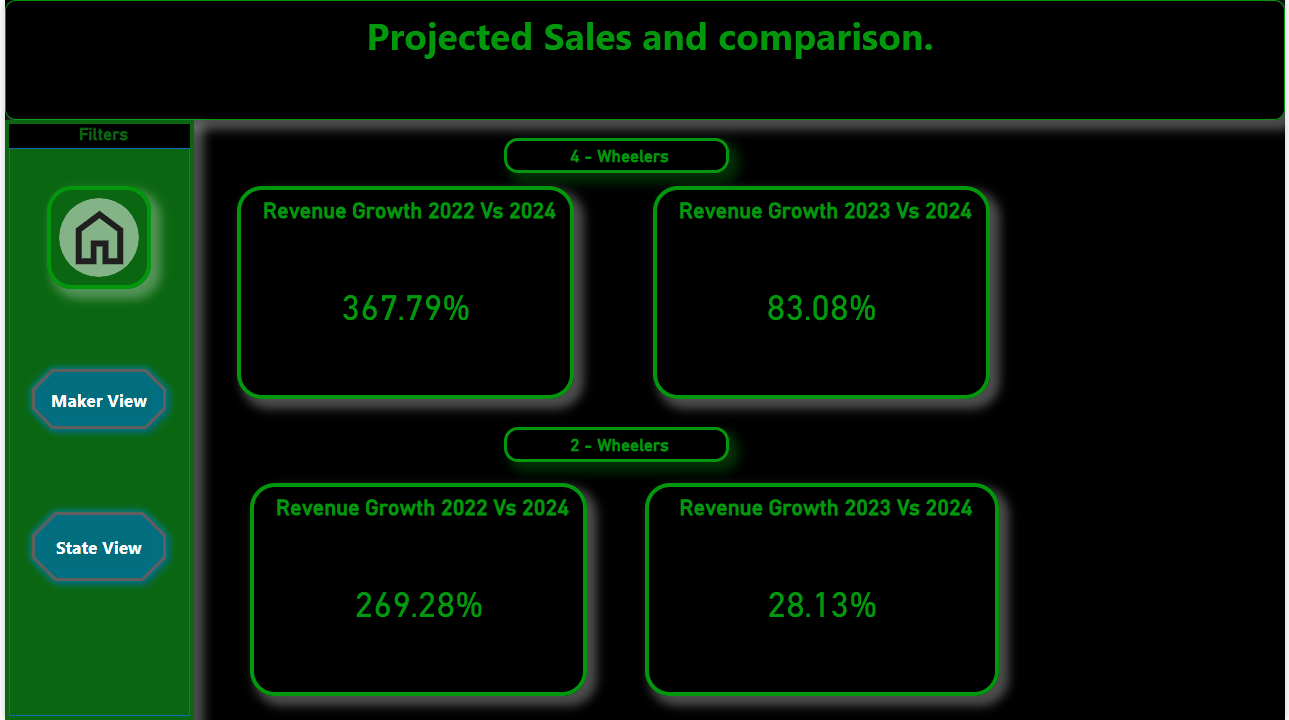

This screenshot's page, from the dashboard's own definition file:
{"tool":"powerbi","page":{"name":"q-9","canvas":[1280,720],"ordinal":11},"visuals":[{"type":"textbox","box":[0,0,1280,120],"z":0},{"type":"shape","title":"Filters","box":[0,120,188.9,600],"z":1000},{"type":"actionButton","box":[18,360,152,78],"z":2000},{"type":"actionButton","box":[42.5,186.3,103.5,102.4],"z":3000},{"type":"actionButton","box":[18,503,152,87],"z":4000},{"type":"card","title":"Revenue Growth 2022 Vs 2024","fields":{"Values":["electric_vehicle_sales_by_state.Revenue Growth 2022 vs 2024"]},"box":[245,483,337,213],"z":6001},{"type":"card","title":"Revenue Growth 2023 Vs 2024","fields":{"Values":["electric_vehicle_sales_by_state.Revenue Growth 2023 vs 2024"]},"box":[640,483,354,213],"z":6002},{"type":"textbox","title":"2 - Wheelers","box":[499,427,225,35],"z":6003},{"type":"textbox","title":"4 - Wheelers","box":[499,138,225,35],"z":6004},{"type":"card","title":"Revenue Growth 2022 Vs 2024","fields":{"Values":["electric_vehicle_sales_by_state.Revenue Growth 2022 vs 2024 4W"]},"box":[232,186,337,213],"z":6005},{"type":"card","title":"Revenue Growth 2023 Vs 2024","fields":{"Values":["electric_vehicle_sales_by_state.Revenue Growth 2023 vs 2024 4W"]},"box":[648,186,337,213],"z":6006}]}

Visuals, with their boxes in screenshot pixels (x1, y1, x2, y2), scaled from the page's 1280x720 canvas onto the 1289x720 screenshot:
textbox: detection(0, 0, 1288, 120)
"Filters" shape: detection(0, 120, 190, 719)
actionButton: detection(18, 360, 171, 438)
actionButton: detection(43, 186, 147, 289)
actionButton: detection(18, 503, 171, 590)
"Revenue Growth 2022 Vs 2024" card: detection(247, 483, 586, 696)
"Revenue Growth 2023 Vs 2024" card: detection(644, 483, 1001, 696)
"2 - Wheelers" textbox: detection(503, 427, 729, 462)
"4 - Wheelers" textbox: detection(503, 138, 729, 173)
"Revenue Growth 2022 Vs 2024" card: detection(234, 186, 573, 399)
"Revenue Growth 2023 Vs 2024" card: detection(653, 186, 992, 399)
